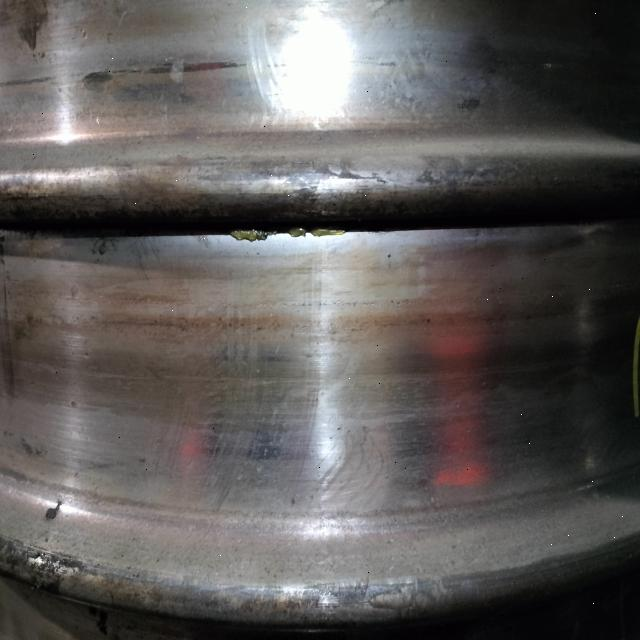Contact_Fatigue_Cracks: (340, 579, 480, 621), (308, 166, 418, 208)
Rollerpile: (1, 544, 107, 603)
